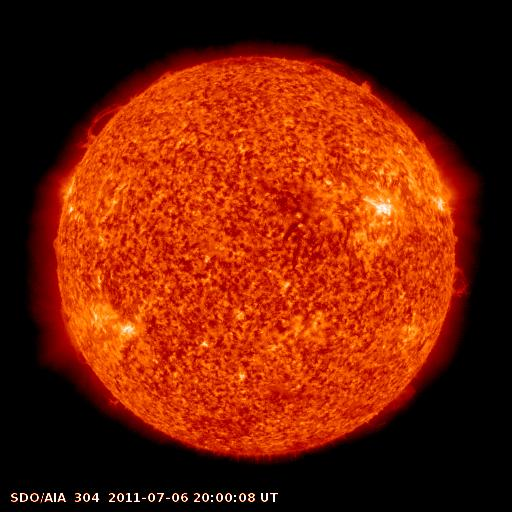prominence: (299, 49, 376, 96), (54, 300, 93, 369), (77, 100, 123, 152), (440, 261, 475, 302)
